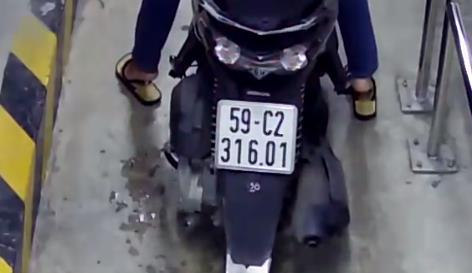lisence: (216, 99, 297, 174)
